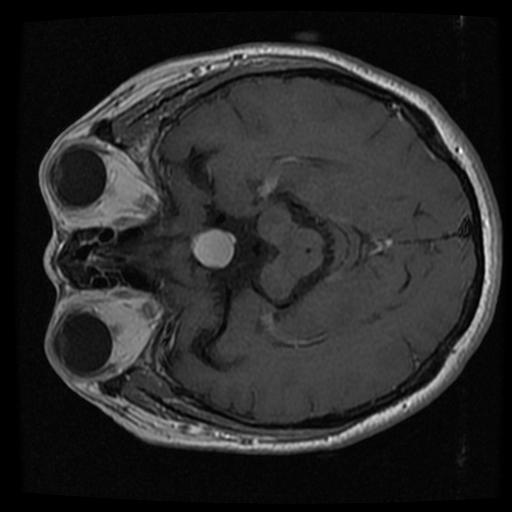pituitary tumour: (193, 229, 234, 271)
